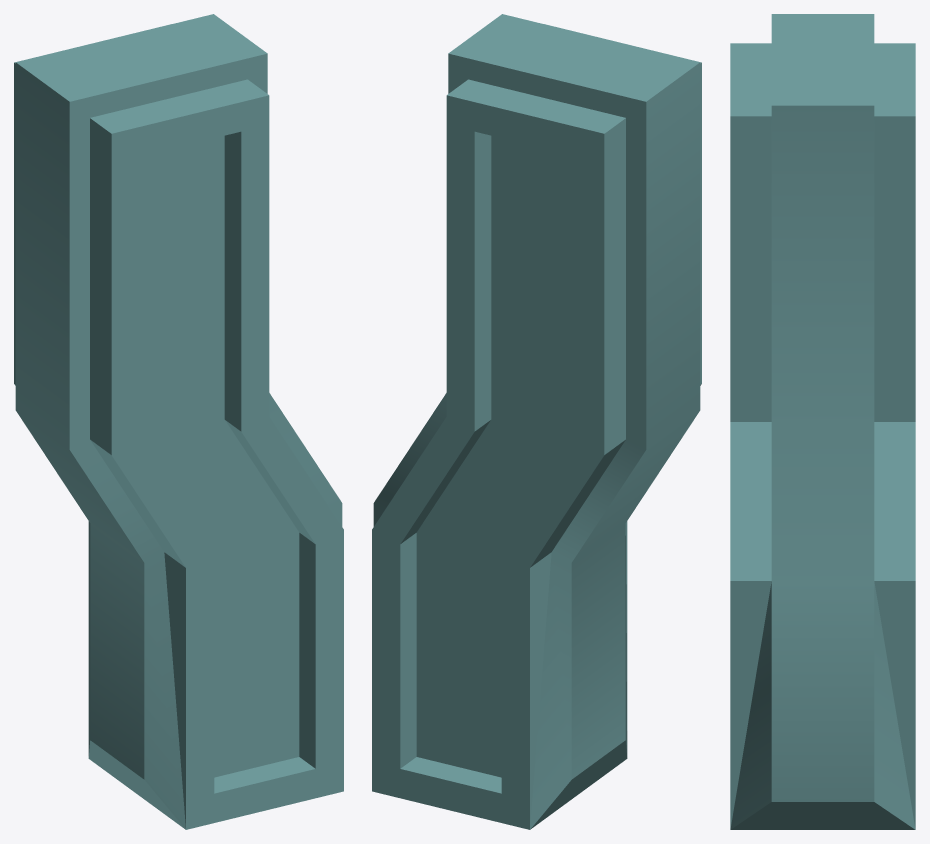
Rendered from P_EdificioRichZone_VAR_01.fbx.
3 views of the same model, side by side, from view 1: azimuth 30°, elevation 25°; view 2: azimuth 150°, elevation 25°; view 3: azimuth 270°, elevation 25° (orthographic). The views are drawn at different scales.
Visible parts, largest first — view 1: pCube2; view 2: pCube2; view 3: pCube2.
Boxes of the visible parts, left/top/right/bottom form: pCube2: left=14, top=14, right=343, bottom=829; pCube2: left=372, top=14, right=701, bottom=829; pCube2: left=730, top=14, right=915, bottom=829.
Size of the model in its own units: 885 by 2283 by 548.
